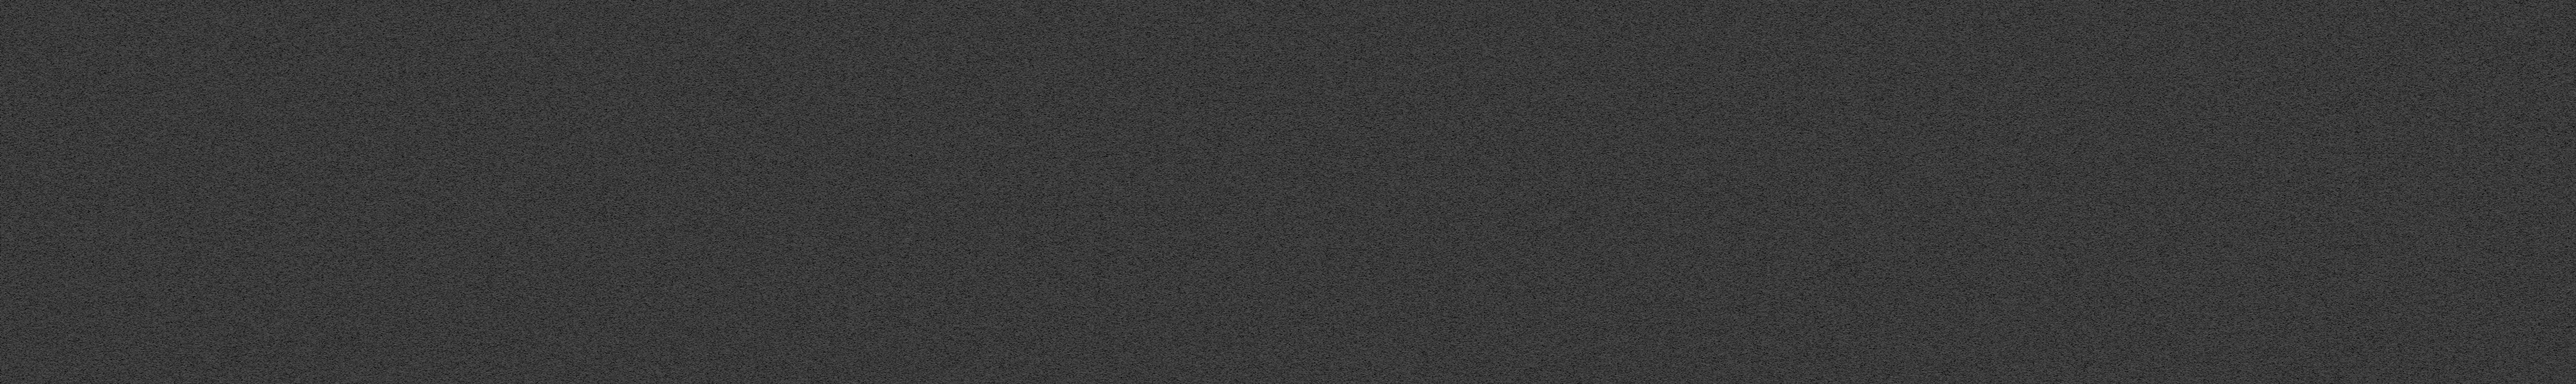wv_am: (148, 0, 151, 384)
wv_cw: (835, 0, 839, 384), (241, 0, 245, 384), (227, 0, 230, 340), (227, 343, 230, 384)
wv_lsb: (253, 2, 256, 276), (2246, 48, 2249, 300), (2244, 313, 2251, 356), (253, 299, 256, 356), (871, 151, 874, 187), (2246, 3, 2249, 33), (871, 272, 874, 302), (871, 222, 874, 249), (871, 187, 874, 213), (2246, 359, 2249, 384), (871, 120, 874, 141), (871, 97, 874, 118), (253, 363, 256, 384), (253, 276, 256, 297), (871, 79, 874, 97), (871, 305, 874, 323), (871, 64, 874, 79), (871, 338, 874, 353), (871, 358, 874, 371), (871, 49, 874, 62), (871, 23, 874, 36), (2246, 33, 2249, 46), (2246, 302, 2249, 313), (871, 374, 874, 384), (871, 249, 874, 258), (871, 213, 874, 222), (871, 141, 874, 149), (871, 36, 874, 44), (871, 5, 874, 13), (871, 258, 874, 264), (253, 356, 256, 363), (871, 267, 874, 271), (871, 323, 874, 327), (871, 48, 874, 49), (871, 44, 874, 46), (872, 18, 874, 21), (872, 15, 874, 18), (872, 335, 874, 338), (872, 330, 874, 333), (871, 302, 874, 304), (872, 354, 874, 356)
wv_wbfm: (636, 0, 688, 384)
